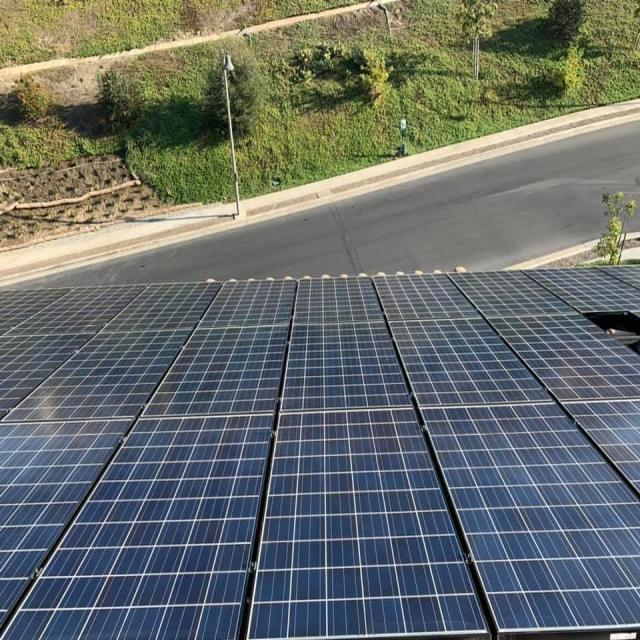clean-solar-panel: (0, 267, 640, 638)
